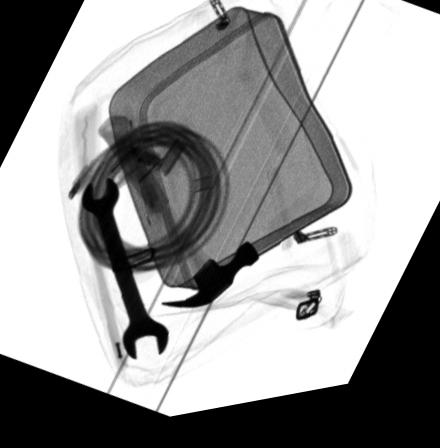Hammer: (97, 118, 259, 315)
Wrench: (81, 180, 169, 364)
